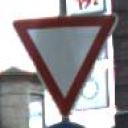preferencia: (12, 12, 117, 116)
